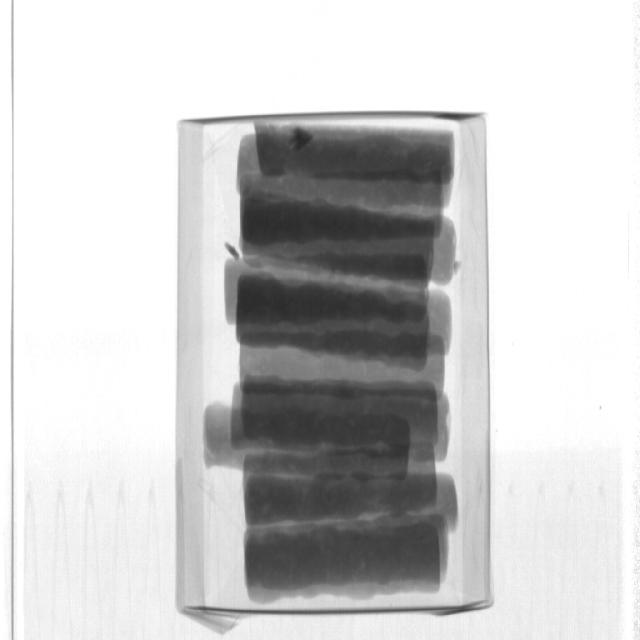ym: (292, 130, 314, 152), (225, 241, 241, 263), (454, 260, 464, 275)
